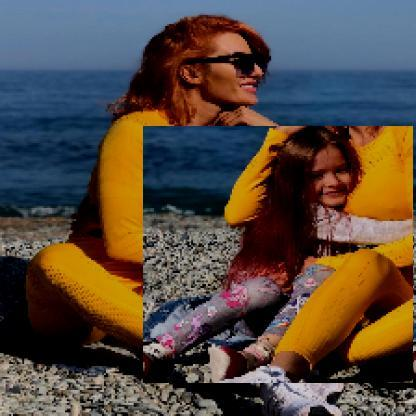child: (144, 128, 415, 386)
